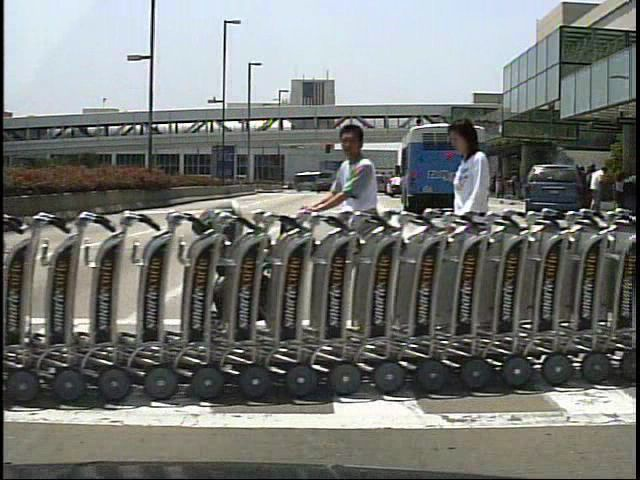person: (302, 118, 400, 361), (443, 115, 506, 331), (589, 165, 610, 215), (584, 163, 600, 216)
